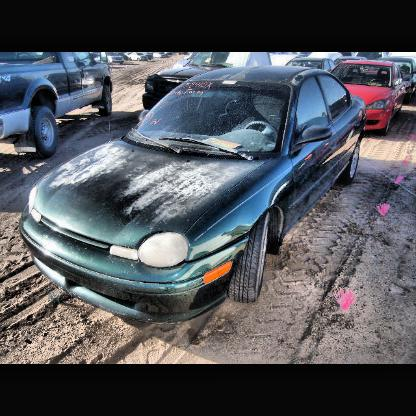Plymouth Neon Coupe 1999: (20, 67, 367, 328)
